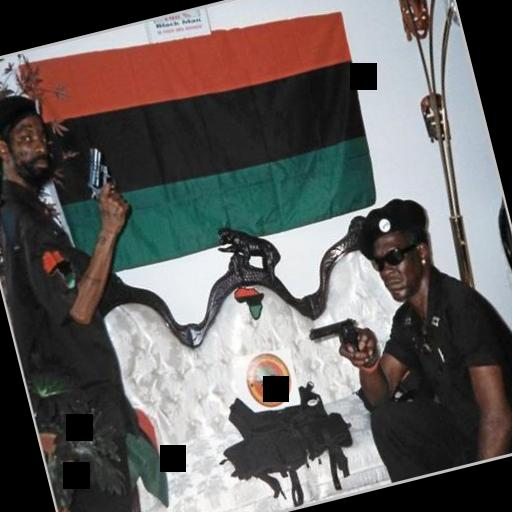Handgun: (74, 142, 122, 202), (306, 315, 364, 364)
